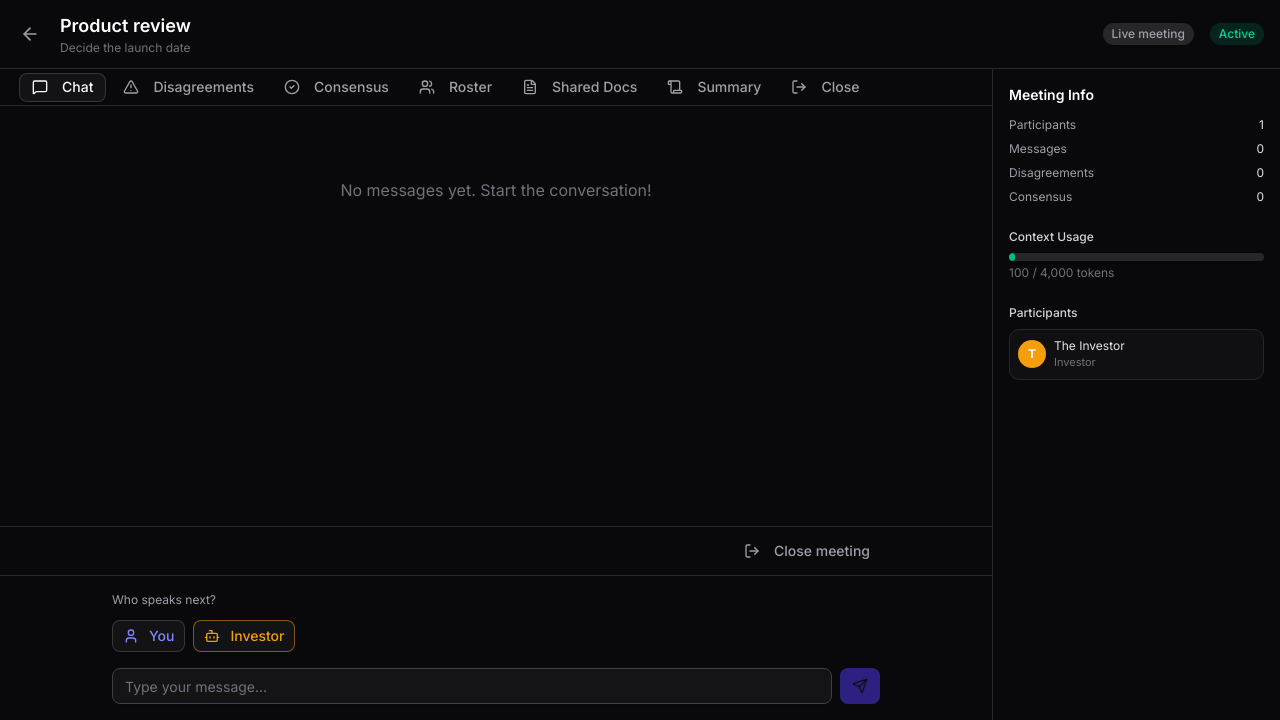
Test: MeetingRoom › does not render fabricated private knowledge files
Expected: the heading "Product review" is shown, [60,15,191,36]
Press the mouse on the tab "Roster" at (455, 87), box [406,72,505,102]
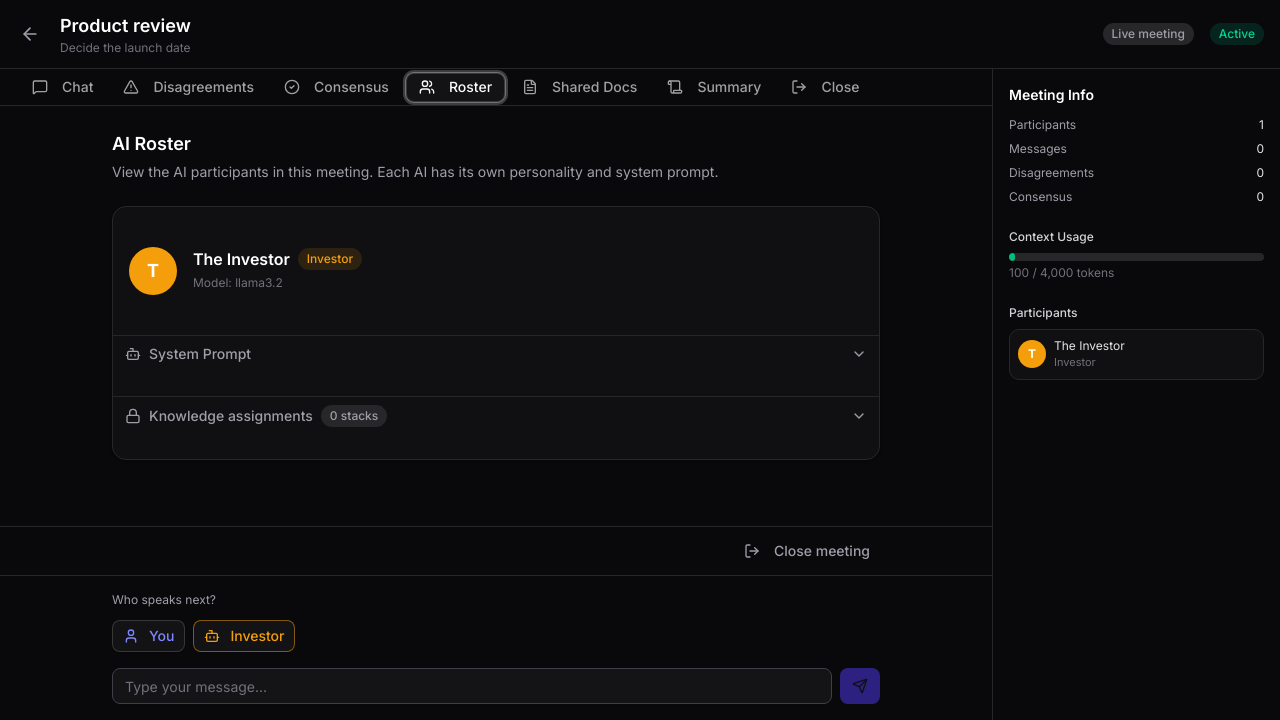
Now the text "Knowledge assignments" is shown, box [149,407,313,424]
Now the text "0 stacks" is shown, box [321,405,387,427]
